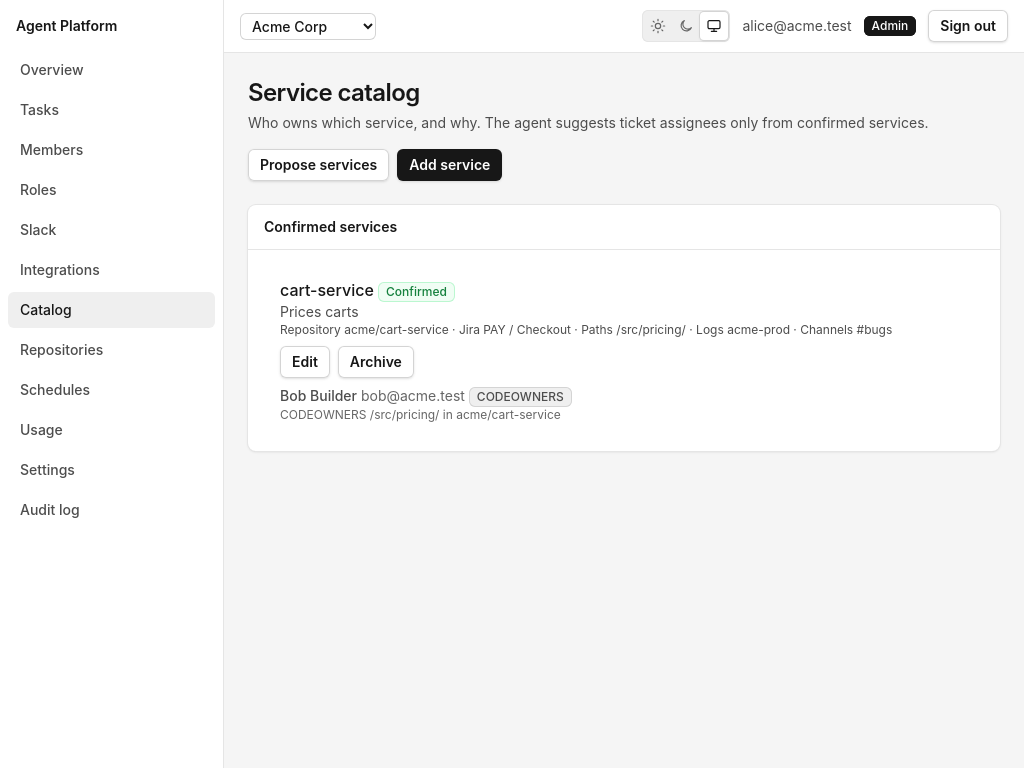
Test: Catalog page › shows the proposed services even when the run finishes before it is seen running
Click the button "Propose services": coordinates (319, 165) x1=248 y1=149 x2=389 y2=181
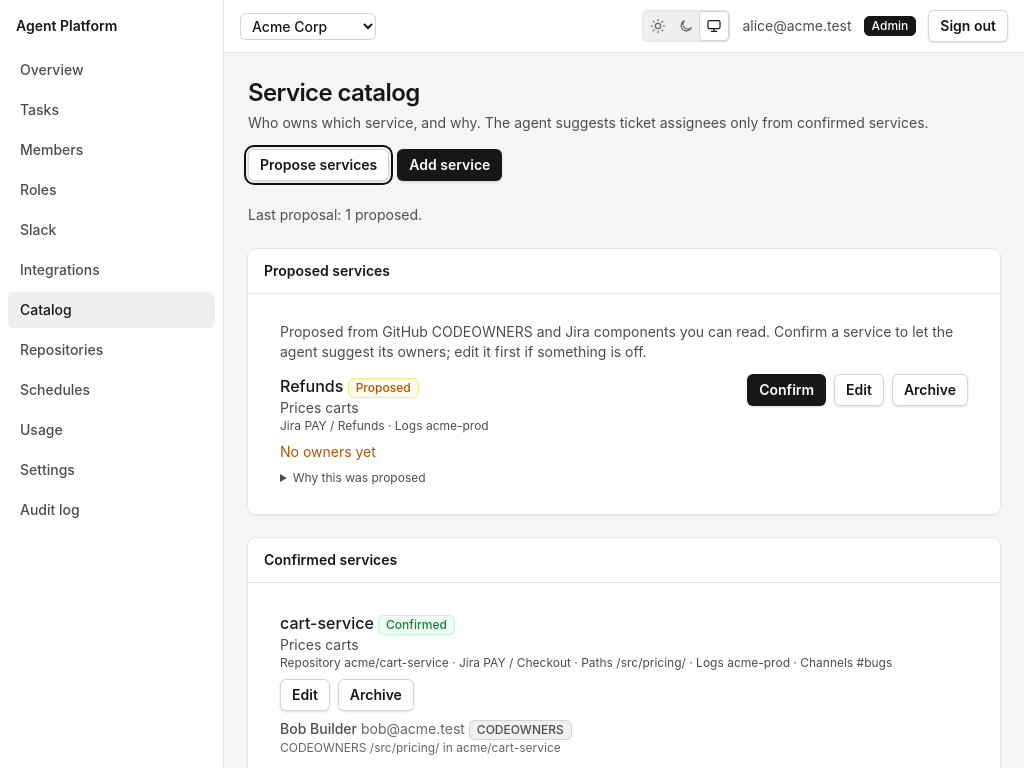
Check: the text "Last proposal: 1 proposed." is shown, box x1=248 y1=206 x2=422 y2=223
Check: the list item "Refunds" is shown, box x1=264 y1=362 x2=984 y2=498
